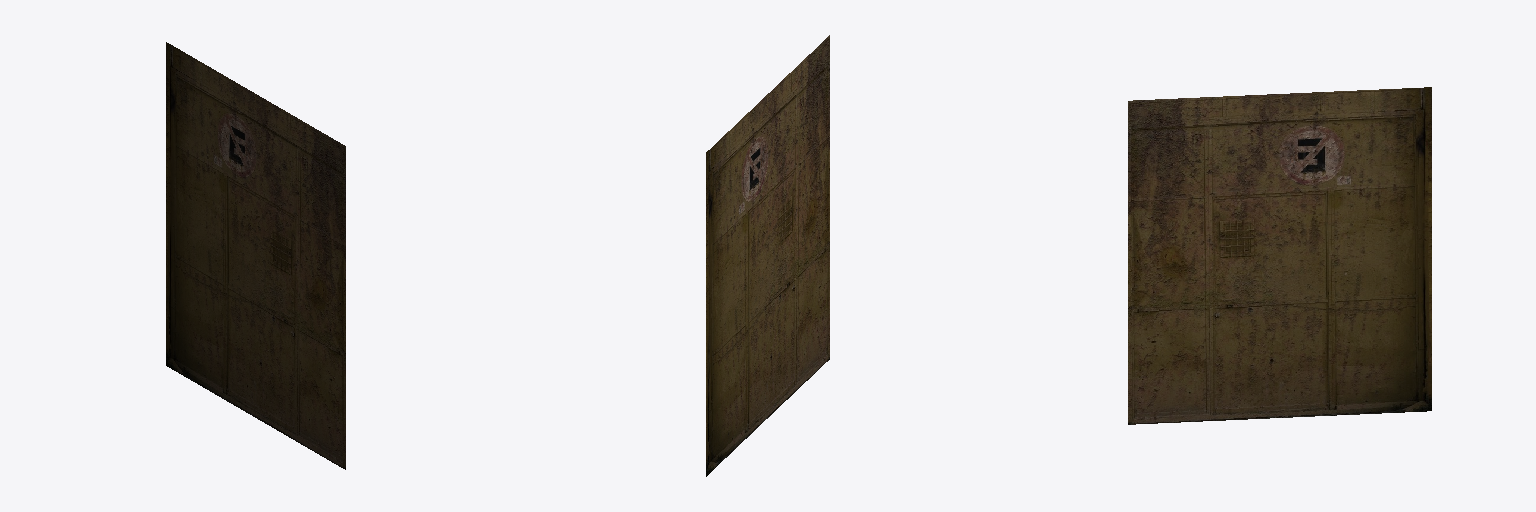
The picture shows the model from 3 angles: view 1: azimuth 30°, elevation 25°; view 2: azimuth 150°, elevation 25°; view 3: azimuth 270°, elevation 25°; orthographic projection.
Visible parts, largest first — view 1: poartaDreapta.001; view 2: poartaDreapta.001; view 3: poartaDreapta.001.
Part boxes in pixels (x1,y1,x2,y2): poartaDreapta.001: (166, 42, 345, 469); poartaDreapta.001: (706, 35, 829, 476); poartaDreapta.001: (1128, 87, 1431, 424).
Size of the model in its own units: 1.36 by 15.11 by 12.88.
Materials: 1 (1 with a texture image).